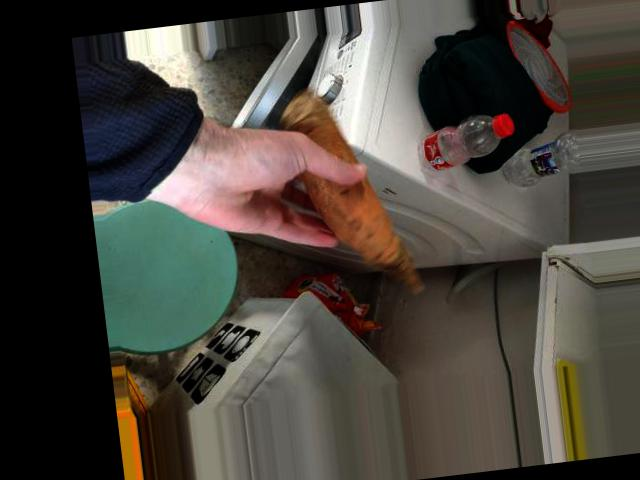sweet_potato: (283, 96, 406, 257)
